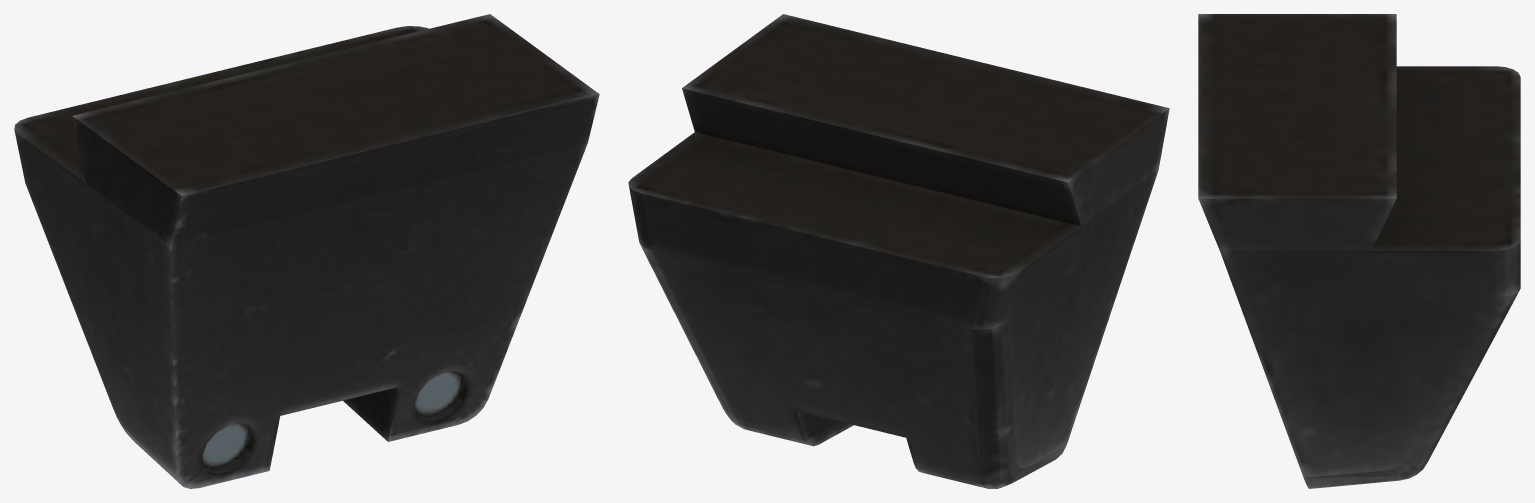
3 views of the same model, side by side, from view 1: azimuth 30°, elevation 25°; view 2: azimuth 150°, elevation 25°; view 3: azimuth 270°, elevation 25° (orthographic). The views are drawn at different scales.
Visible parts, largest first — view 1: TW_602293f023506e50807090cb_PZ_Import; view 2: TW_602293f023506e50807090cb_PZ_Import; view 3: TW_602293f023506e50807090cb_PZ_Import.
Part boxes in pixels (x1,y1,x2,y2): TW_602293f023506e50807090cb_PZ_Import: (14, 14, 599, 488); TW_602293f023506e50807090cb_PZ_Import: (628, 14, 1169, 488); TW_602293f023506e50807090cb_PZ_Import: (1198, 14, 1520, 488).
Size of the model in its own units: 0.00929 by 0.00686 by 0.00758.
1 material, 1 textured.
